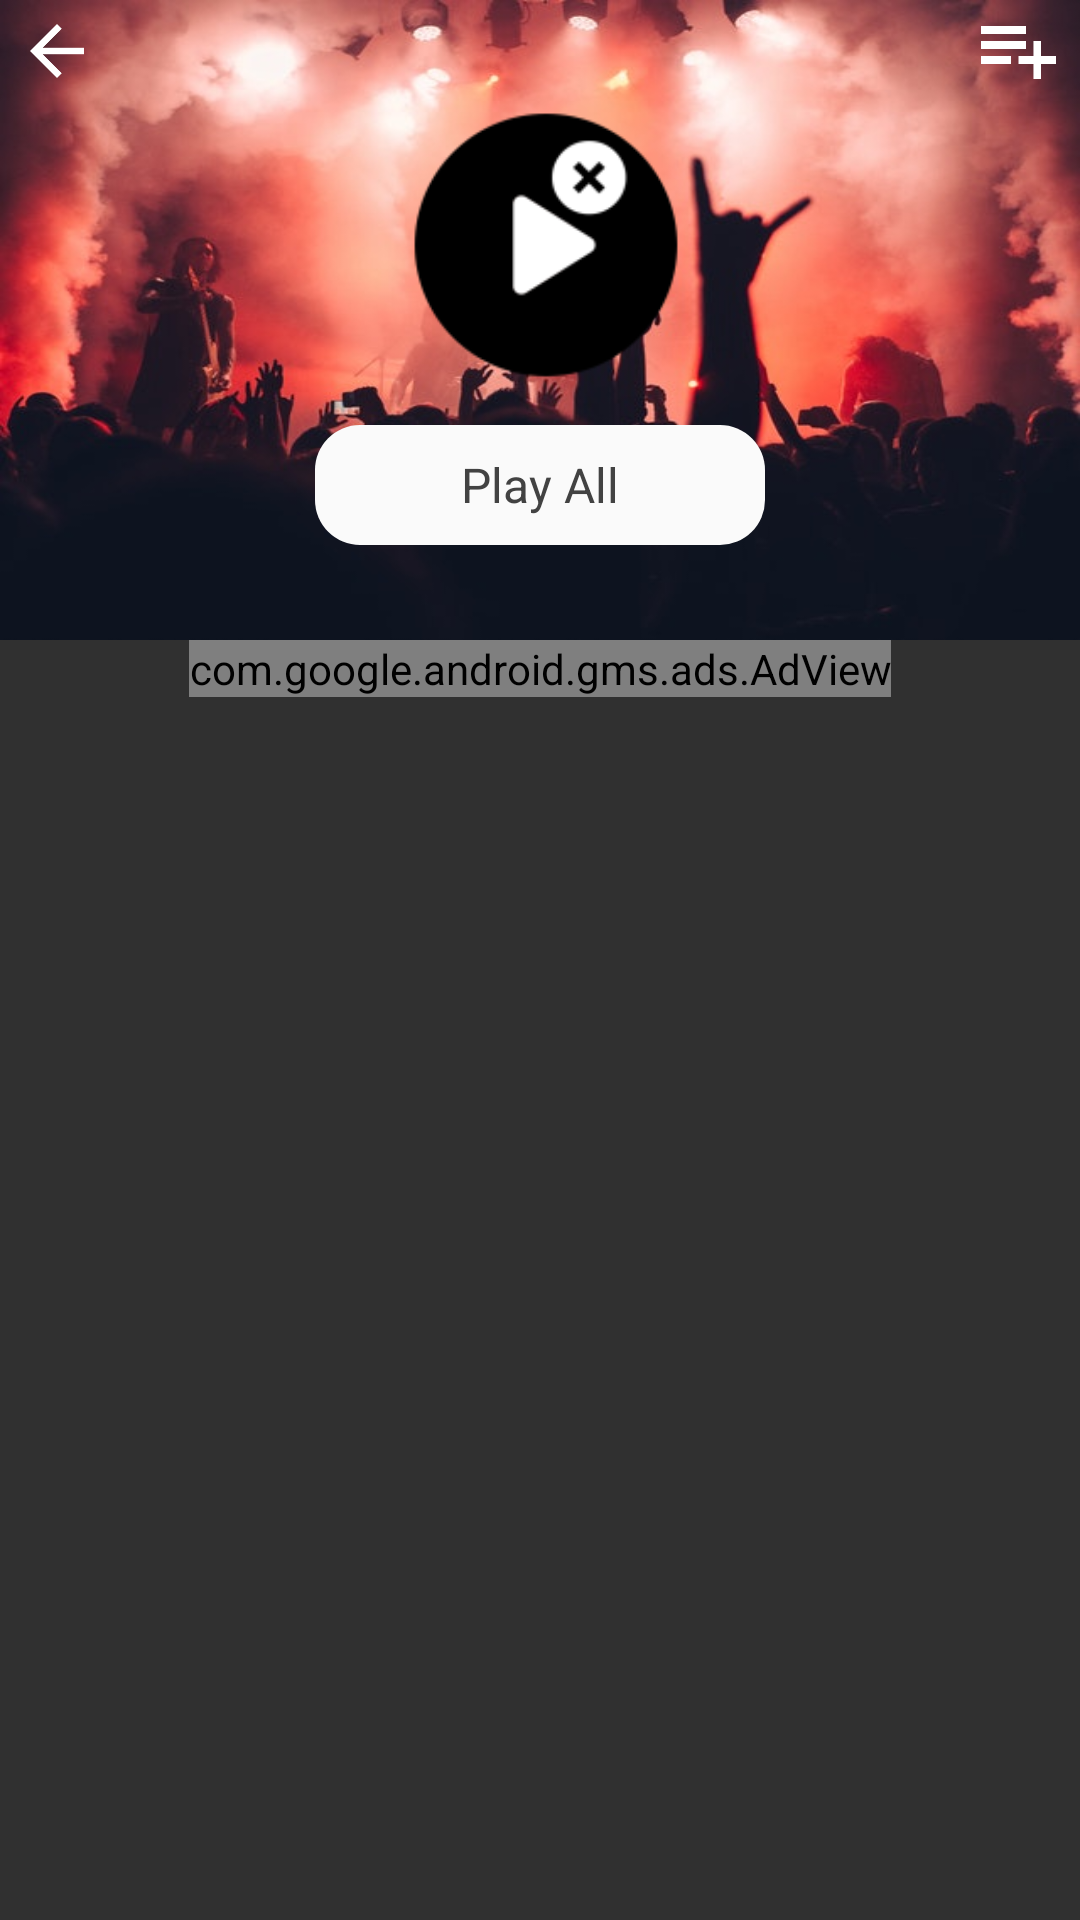

Point at icon controls on the screen. Image size 1080×1920, points as (x=x, y=y).
add to playlist: (x=1018, y=52)
back: (x=57, y=51)
